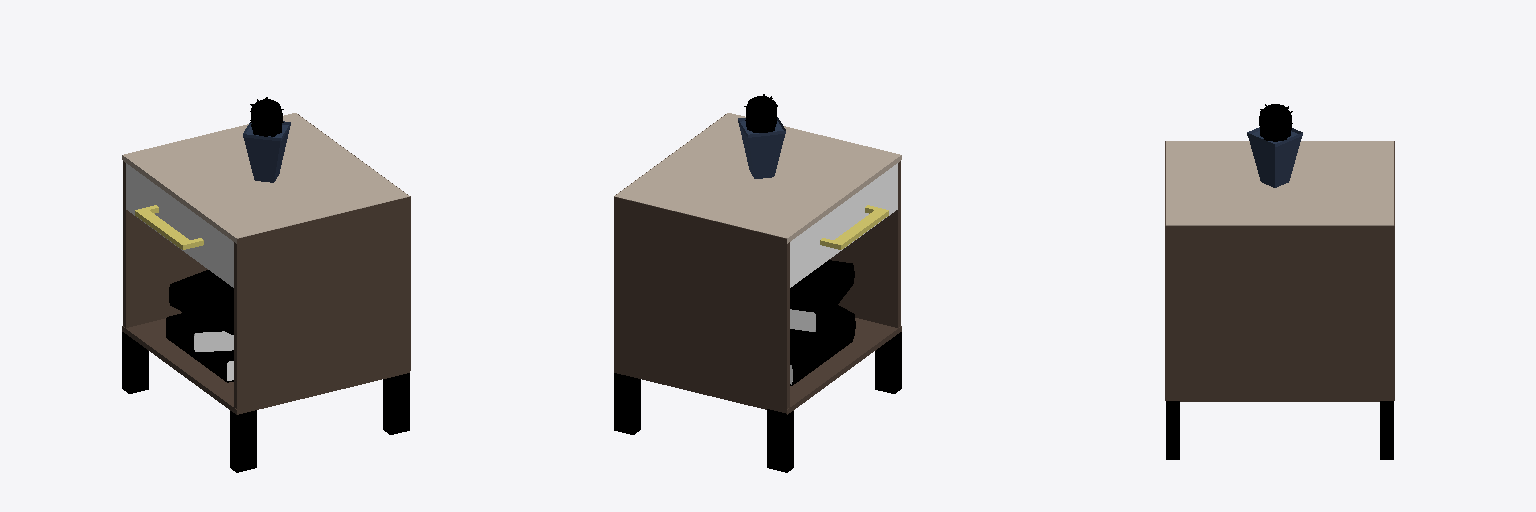
3 views of the same model, side by side, from view 1: azimuth 30°, elevation 25°; view 2: azimuth 150°, elevation 25°; view 3: azimuth 270°, elevation 25° (orthographic).
Visible parts, largest first — view 1: pasted__pasted__pCube6 polySurface17, pasted__pasted__pCube6 polySurface15, pasted__pasted__pCube6 polySurface12, pasted__pasted__pCube6 polySurface13, pasted__pasted__pCube6 polySurface16, polySurface21 pasted__pasted__Box002 pasted__group10 group11, polySurface1863 polySurface1862, pasted__pasted__pCube6 polySurface11, pasted__pasted__pCube6 polySurface10, pasted__pasted__pCube6 polySurface19, Box002 polySurface25, pasted__polySurface2264 group12 (+3 smaller); view 2: pasted__pasted__pCube6 polySurface12, pasted__pasted__pCube6 polySurface15, pasted__pasted__pCube6 polySurface17, pasted__pasted__pCube6 polySurface13, pasted__pasted__pCube6 polySurface16, polySurface21 pasted__pasted__Box002 pasted__group10 group11, polySurface1863 polySurface1862, pasted__pasted__pCube6 polySurface19, pasted__Box002 group10 polySurface23, pasted__pasted__pCube6 polySurface14, pasted__pasted__pCube6 polySurface11, Box002 polySurface25 (+2 smaller); view 3: polySurface18 pasted__pasted__pCube6, pasted__pasted__pCube6 polySurface15, polySurface1863 polySurface1862, pasted__polySurface2264 group12, pasted__pasted__pCube6 polySurface14, pasted__pasted__pCube6 polySurface10.
Boxes of the visible parts, x1=… form: pasted__pasted__pCube6 polySurface17: x1=234, y1=197, x2=409, y2=413; pasted__pasted__pCube6 polySurface15: x1=122, y1=113, x2=409, y2=243; pasted__pasted__pCube6 polySurface12: x1=123, y1=161, x2=207, y2=327; pasted__pasted__pCube6 polySurface13: x1=126, y1=163, x2=233, y2=287; pasted__pasted__pCube6 polySurface16: x1=122, y1=318, x2=409, y2=414; polySurface21 pasted__pasted__Box002 pasted__group10 group11: x1=169, y1=270, x2=233, y2=334; polySurface1863 polySurface1862: x1=243, y1=121, x2=290, y2=182; pasted__pasted__pCube6 polySurface11: x1=230, y1=410, x2=256, y2=472; pasted__pasted__pCube6 polySurface10: x1=383, y1=373, x2=409, y2=434; pasted__pasted__pCube6 polySurface19: x1=122, y1=332, x2=148, y2=393; Box002 polySurface25: x1=166, y1=313, x2=233, y2=382; pasted__polySurface2264 group12: x1=250, y1=97, x2=283, y2=136; pasted__pasted__pCube6 polySurface12: x1=614, y1=194, x2=789, y2=413; pasted__pasted__pCube6 polySurface15: x1=614, y1=113, x2=901, y2=243; pasted__pasted__pCube6 polySurface17: x1=829, y1=161, x2=900, y2=327; pasted__pasted__pCube6 polySurface13: x1=790, y1=163, x2=897, y2=287; pasted__pasted__pCube6 polySurface16: x1=614, y1=318, x2=901, y2=414; polySurface21 pasted__pasted__Box002 pasted__group10 group11: x1=790, y1=260, x2=854, y2=333; polySurface1863 polySurface1862: x1=738, y1=117, x2=785, y2=178; pasted__pasted__pCube6 polySurface19: x1=767, y1=409, x2=793, y2=472; pasted__Box002 group10 polySurface23: x1=790, y1=305, x2=855, y2=355; pasted__pasted__pCube6 polySurface14: x1=614, y1=373, x2=640, y2=434; pasted__pasted__pCube6 polySurface11: x1=875, y1=332, x2=901, y2=393; Box002 polySurface25: x1=790, y1=336, x2=853, y2=385; polySurface18 pasted__pasted__pCube6: x1=1166, y1=226, x2=1393, y2=400; pasted__pasted__pCube6 polySurface15: x1=1166, y1=141, x2=1393, y2=225; polySurface1863 polySurface1862: x1=1247, y1=127, x2=1302, y2=187; pasted__polySurface2264 group12: x1=1259, y1=104, x2=1292, y2=141; pasted__pasted__pCube6 polySurface14: x1=1380, y1=401, x2=1393, y2=459; pasted__pasted__pCube6 polySurface10: x1=1166, y1=401, x2=1179, y2=459.
Bounding box in the file's own units: 0.8744 × 1.34 × 0.8908.
Materials: 10 (9 with a texture image).